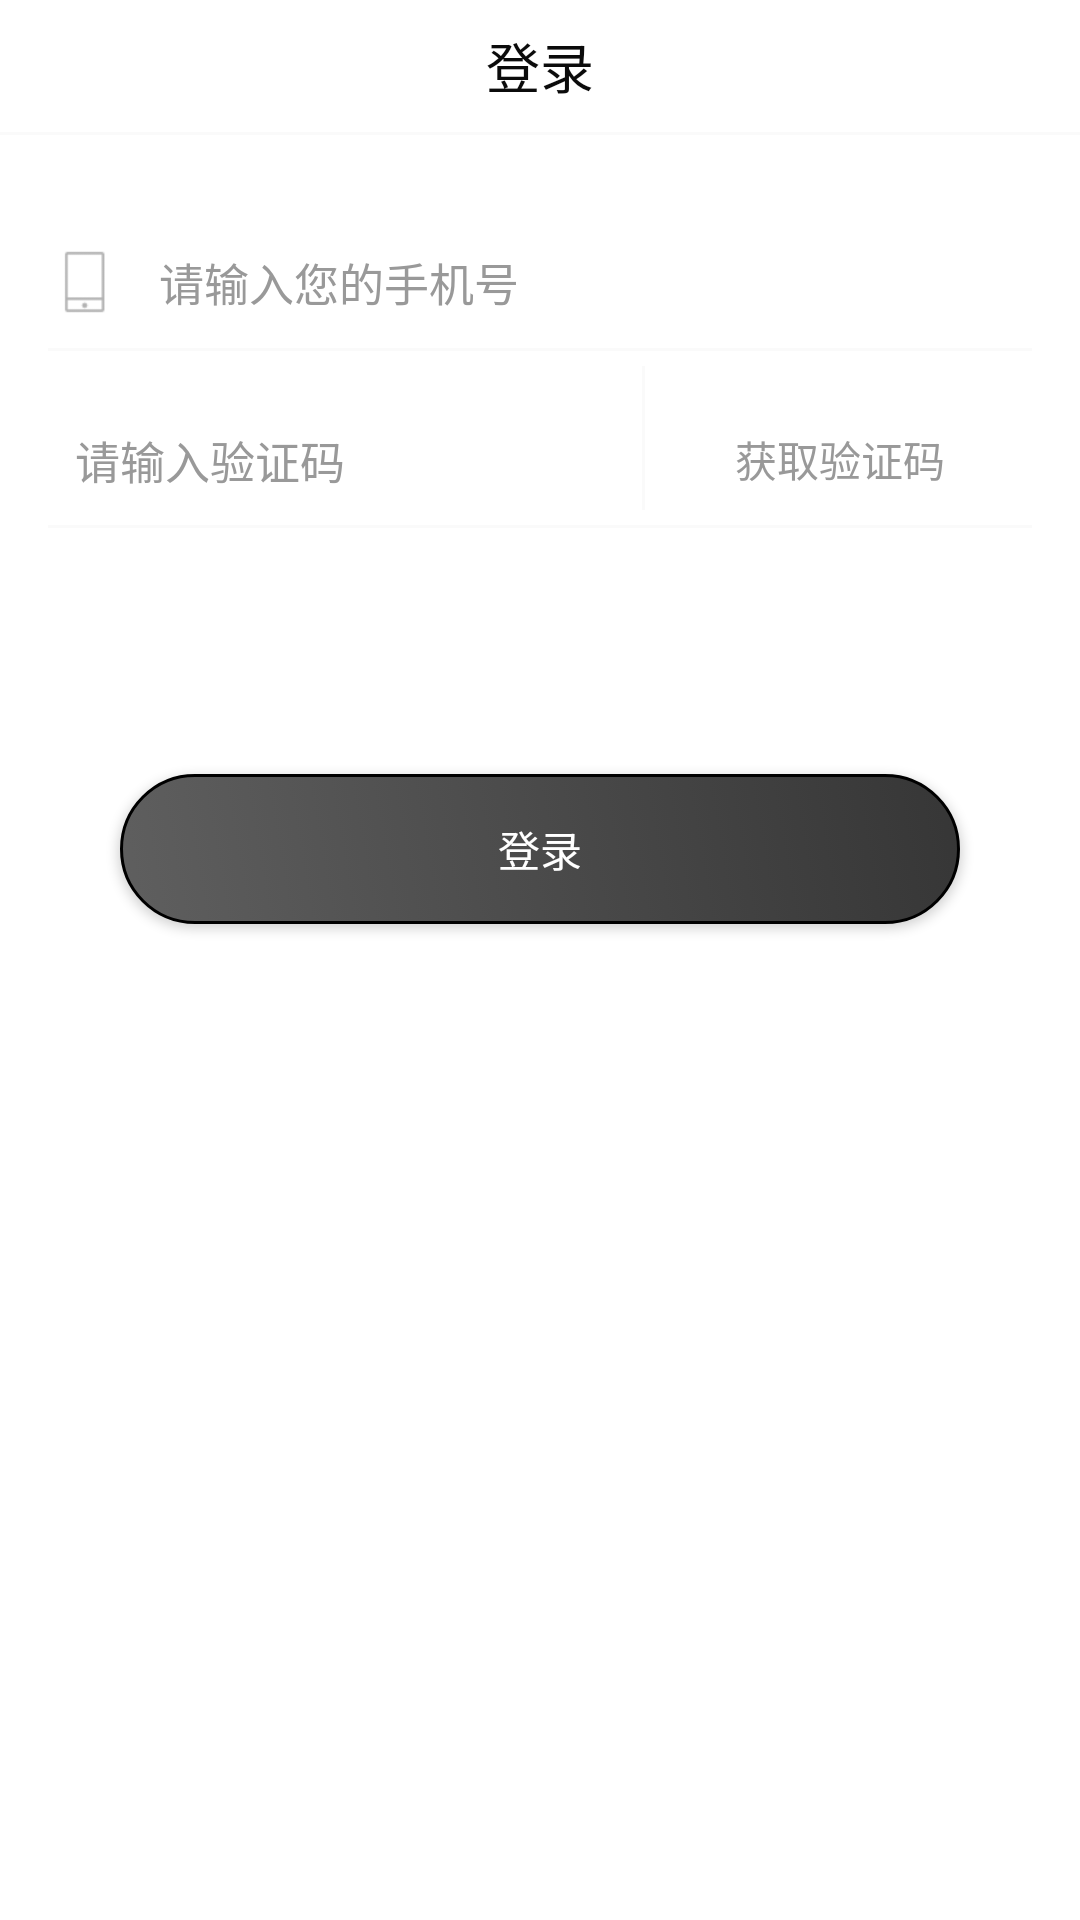

Point at icon controls on the screen. Image size 1080×1920, points as (x=x, y=y).
login phone: (x=85, y=282)
